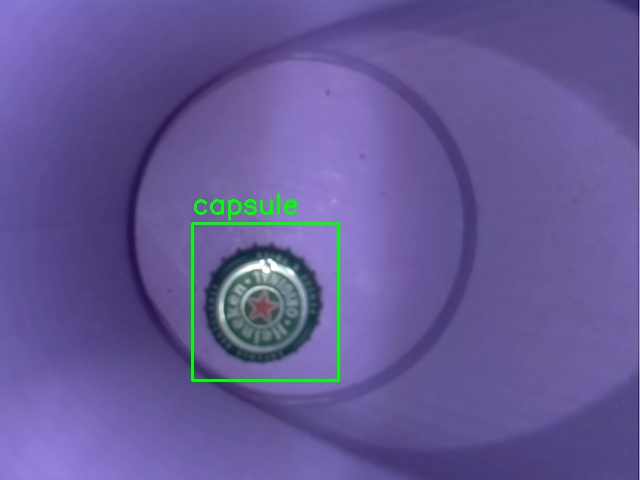capsule: (192, 223, 338, 380)
